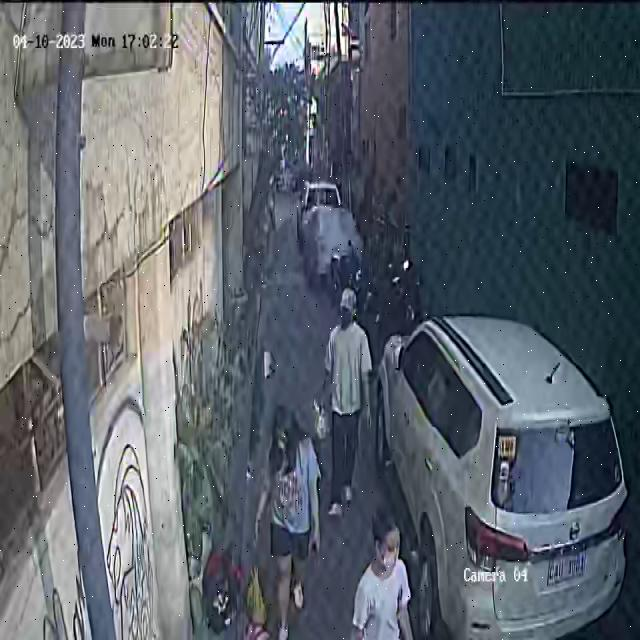garbage_dumping: (239, 554, 266, 632), (313, 387, 330, 445)
